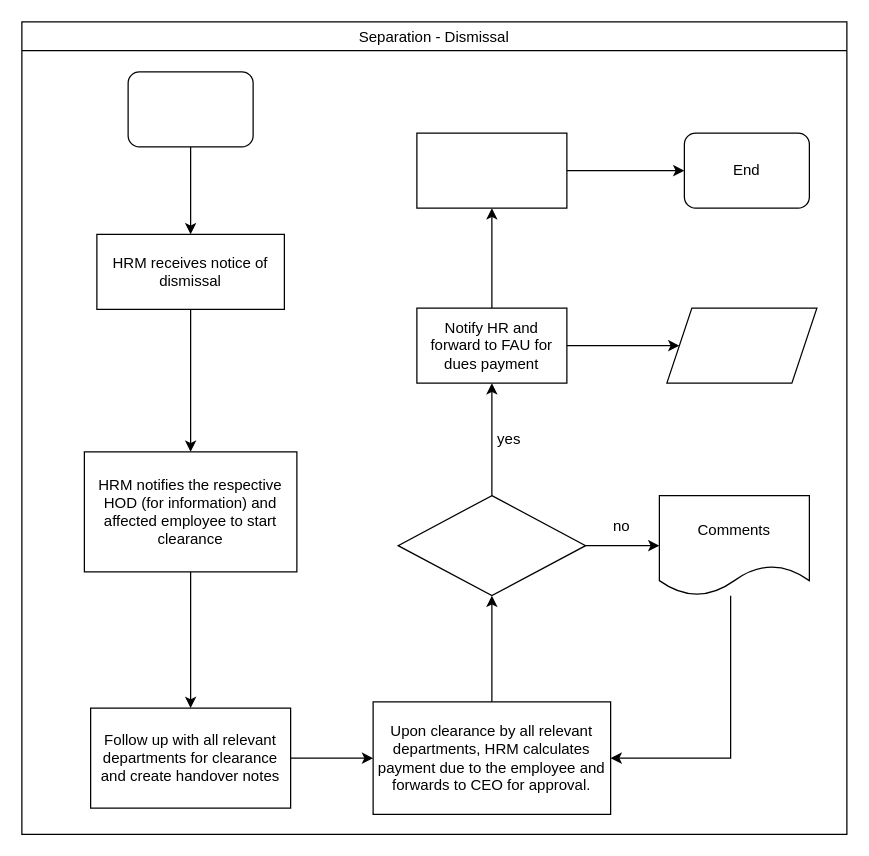
Some shapes in this 869 by 856 pixel diagram are drawn without their labels. The shapes that lost their labels are listed below. From the top down, each one's box as (x1, y1, x2, y2) in pixels, then its label:
(127, 71, 253, 147): Start
(416, 132, 567, 208): HR issues certificate of service
(666, 307, 817, 383): Dues payment request to FAU
(397, 494, 586, 596): Dues approved by CEO?
